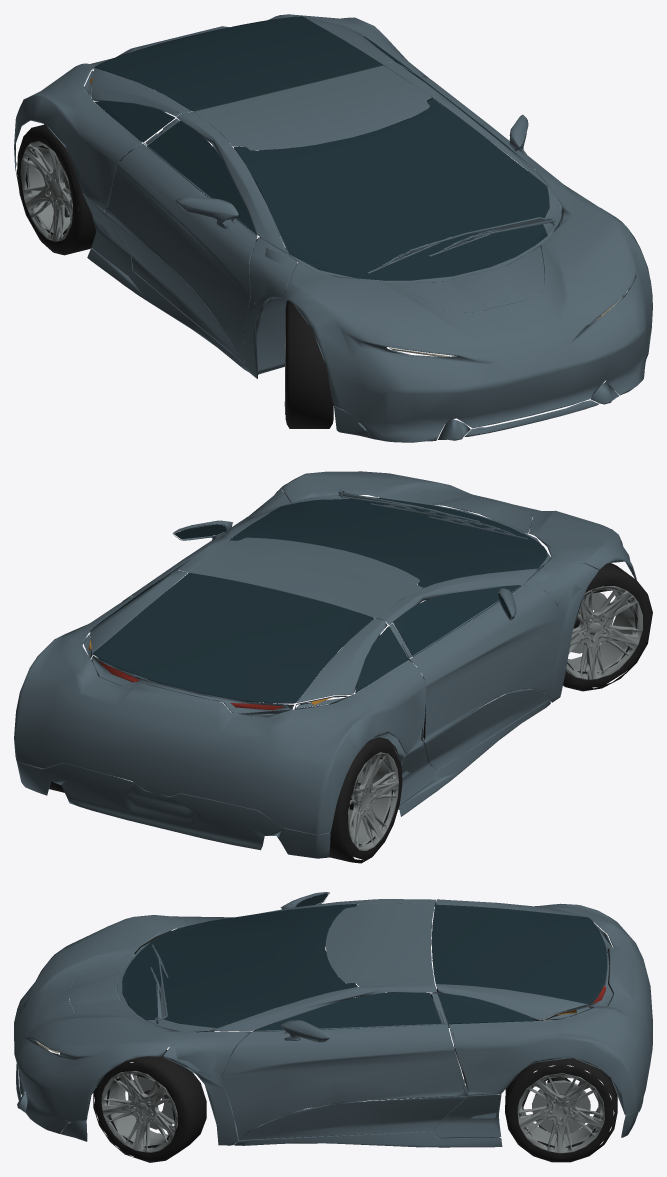
The model's file is city-car.glb.
3 renders of one model, top to bottom at view 1: azimuth 30°, elevation 25°; view 2: azimuth 150°, elevation 25°; view 3: azimuth 270°, elevation 25°, orthographic. The views are drawn at different scales.
Parts seen in each view (by area): view 1: City touring car; view 2: City touring car; view 3: City touring car.
Boxes of the visible parts, bbox=[...] form: City touring car: bbox=[14, 14, 652, 442]; City touring car: bbox=[14, 471, 652, 863]; City touring car: bbox=[14, 892, 652, 1162].
Size of the model in its own units: 0.7592 by 0.3432 by 1.3.
